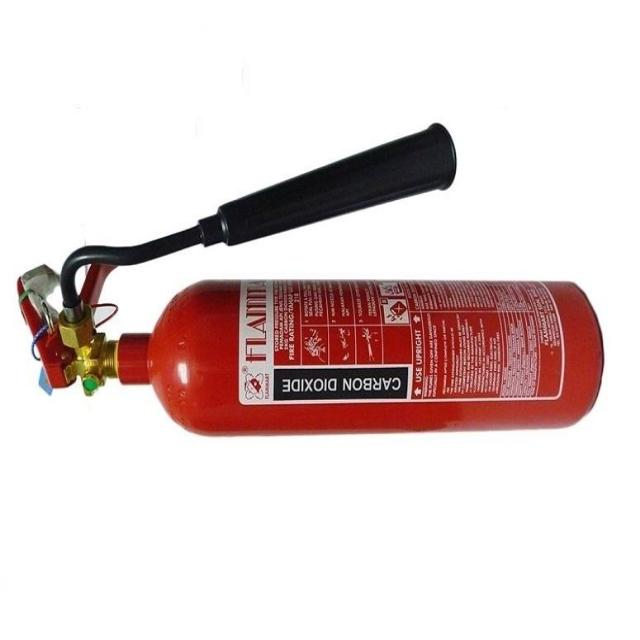fire_extinguisher: (12, 118, 607, 445)
